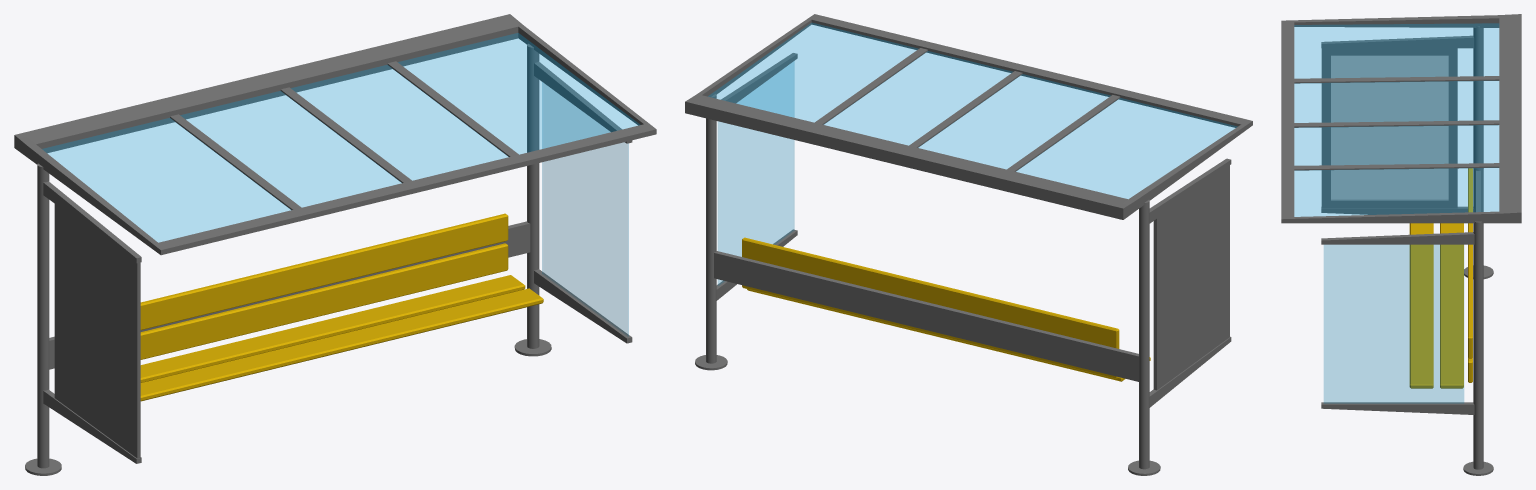
File: Bus Stop.fbx
3 renders of one model, left to right at view 1: azimuth 30°, elevation 25°; view 2: azimuth 150°, elevation 25°; view 3: azimuth 270°, elevation 25°, orthographic. The views are drawn at different scales.
Parts seen in each view (by area): view 1: pCube10, pCube12, pCube11, pCube3, pCube14, pCube15, pCube4, pCube18, pCube17, pCylinder4, pCylinder1, pCube13 (+7 smaller); view 2: pCube10, pCube12, pCube13, pCube3, pCube11, pCube15, pCube4, pCylinder4, pCylinder1, pCube14, pCube5, pCube7 (+5 smaller); view 3: pCube10, pCube11, pCube12, pCube3, pCube4, pCube18, pCube17, pCylinder1, pCylinder4, pCube5, pCube1, pCube2 (+6 smaller).
Boxes of the visible parts, box(x1,y1,x2,y2) form: pCube10: box(42, 33, 639, 242); pCube12: box(54, 204, 140, 458); pCube11: box(542, 82, 628, 336); pCube3: box(23, 14, 656, 153); pCube14: box(140, 243, 508, 359); pCube15: box(140, 213, 508, 330); pCube4: box(14, 124, 651, 255); pCube18: box(140, 288, 543, 401); pCube17: box(140, 275, 525, 382); pCylinder4: box(37, 163, 49, 468); pCylinder1: box(527, 43, 539, 348); pCube13: box(49, 221, 530, 369); pCube10: box(708, 23, 1236, 198); pCube12: box(1153, 165, 1229, 390); pCube13: box(714, 251, 1138, 381); pCube3: box(685, 14, 1127, 218); pCube11: box(718, 62, 794, 285); pCube15: box(742, 237, 1119, 348); pCube4: box(811, 15, 1252, 219); pCylinder4: box(1139, 200, 1149, 469); pCylinder1: box(706, 94, 716, 363); pCube14: box(742, 285, 1118, 379); pCube5: box(1149, 158, 1231, 223); pCube7: box(909, 71, 1022, 147); pCube10: box(1294, 23, 1498, 216); pCube11: box(1324, 245, 1463, 403); pCube12: box(1321, 48, 1457, 208); pCube3: box(1281, 17, 1521, 223); pCube4: box(1281, 14, 1521, 217); pCube18: box(1409, 223, 1433, 388); pCube17: box(1440, 223, 1463, 388); pCylinder1: box(1473, 221, 1483, 469); pCylinder4: box(1473, 26, 1483, 212); pCube5: box(1321, 35, 1474, 48); pCube1: box(1321, 402, 1474, 414); pCube2: box(1321, 232, 1474, 244).
Bounding box in the file's own units: 98.62 × 56.84 × 47.96.
